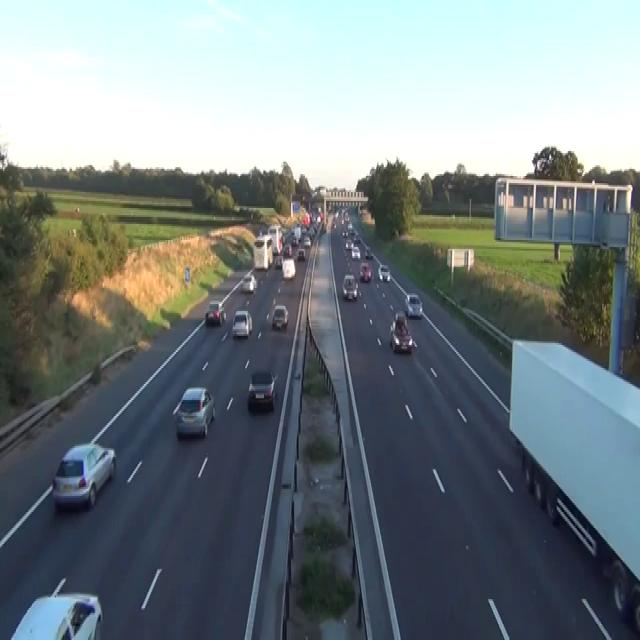Car: (9, 576, 102, 638), (51, 441, 116, 510), (172, 386, 215, 437), (247, 370, 276, 410), (389, 311, 413, 352), (232, 309, 252, 338), (204, 300, 226, 326), (389, 311, 407, 340), (404, 292, 423, 318), (271, 304, 289, 329), (342, 274, 358, 300), (241, 272, 257, 292), (282, 258, 295, 279), (359, 261, 371, 281), (394, 309, 406, 329), (378, 263, 390, 281), (351, 246, 360, 260), (282, 244, 292, 256), (274, 254, 282, 268), (364, 245, 372, 258), (297, 247, 305, 260), (303, 237, 311, 247), (300, 224, 307, 235), (345, 240, 353, 249), (258, 226, 265, 236), (353, 233, 360, 243), (291, 235, 298, 245), (272, 244, 278, 254), (347, 222, 353, 231), (332, 220, 337, 230), (322, 224, 327, 233), (317, 214, 322, 222), (342, 230, 347, 237)
Truck: (508, 338, 639, 633), (253, 233, 273, 268), (267, 224, 283, 254)
